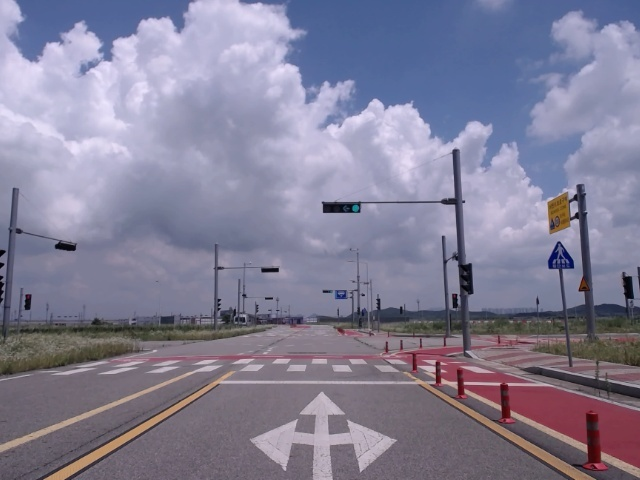all_green_4: (324, 201, 362, 212)
